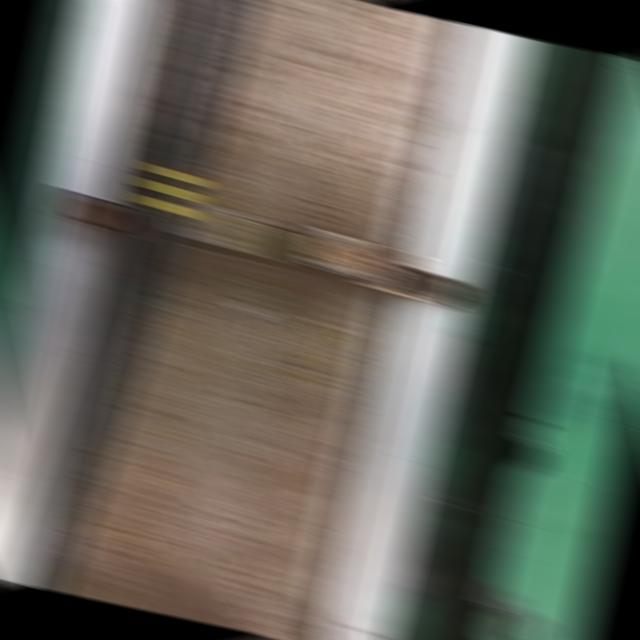yellow: (136, 163, 198, 218)
